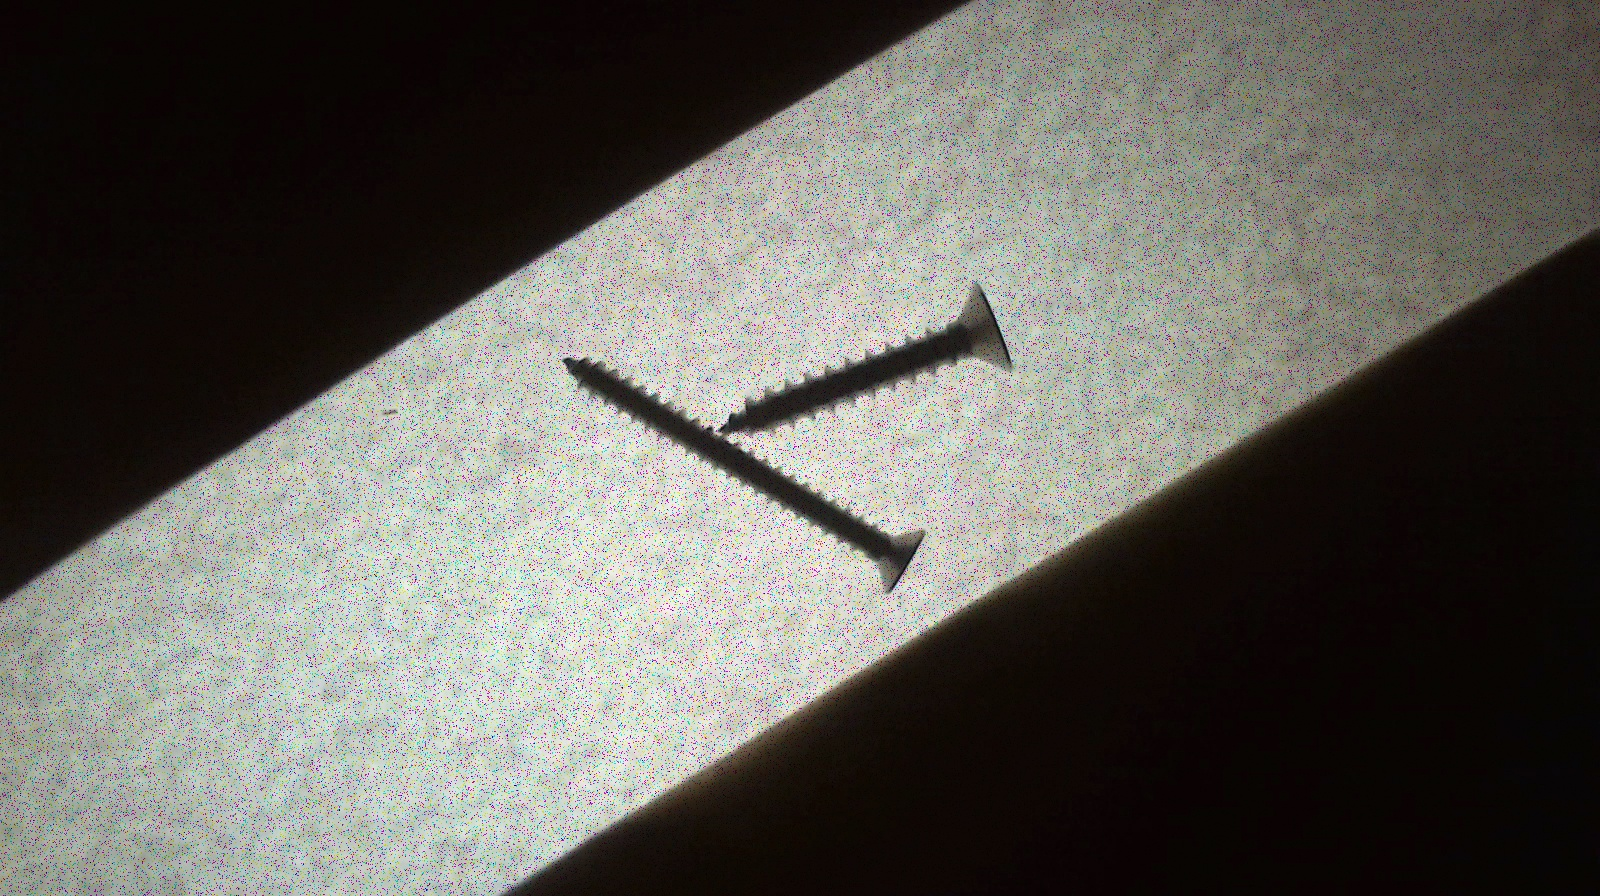S001: (718, 279, 1016, 438)
S002: (562, 352, 935, 594)
